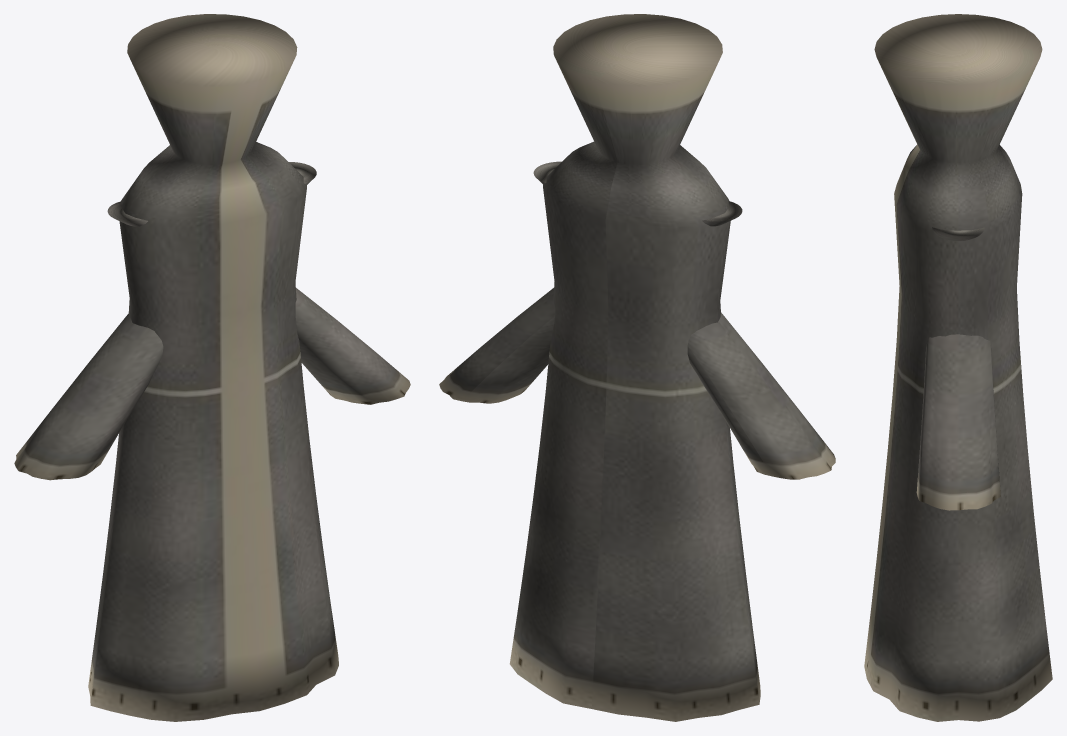
Rendered from ash_coat_chest.glb.
The picture shows the model from 3 angles, left to right: view 1: azimuth 30°, elevation 25°; view 2: azimuth 150°, elevation 25°; view 3: azimuth 270°, elevation 25°; orthographic projection.
Visible parts, largest first — view 1: ash_coat_chest; view 2: ash_coat_chest; view 3: ash_coat_chest.
Part boxes in pixels (x1,y1,x2,y2): ash_coat_chest: (14, 14, 410, 721); ash_coat_chest: (439, 14, 835, 721); ash_coat_chest: (864, 14, 1052, 721).
Bounding box in the file's own units: 0.3547 × 0.55 × 0.1523.
Materials: 1 (1 with a texture image).
